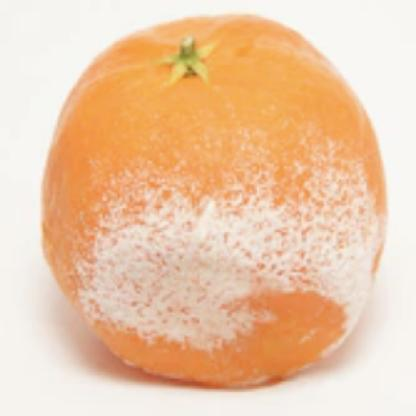rotten: (45, 12, 389, 381)
